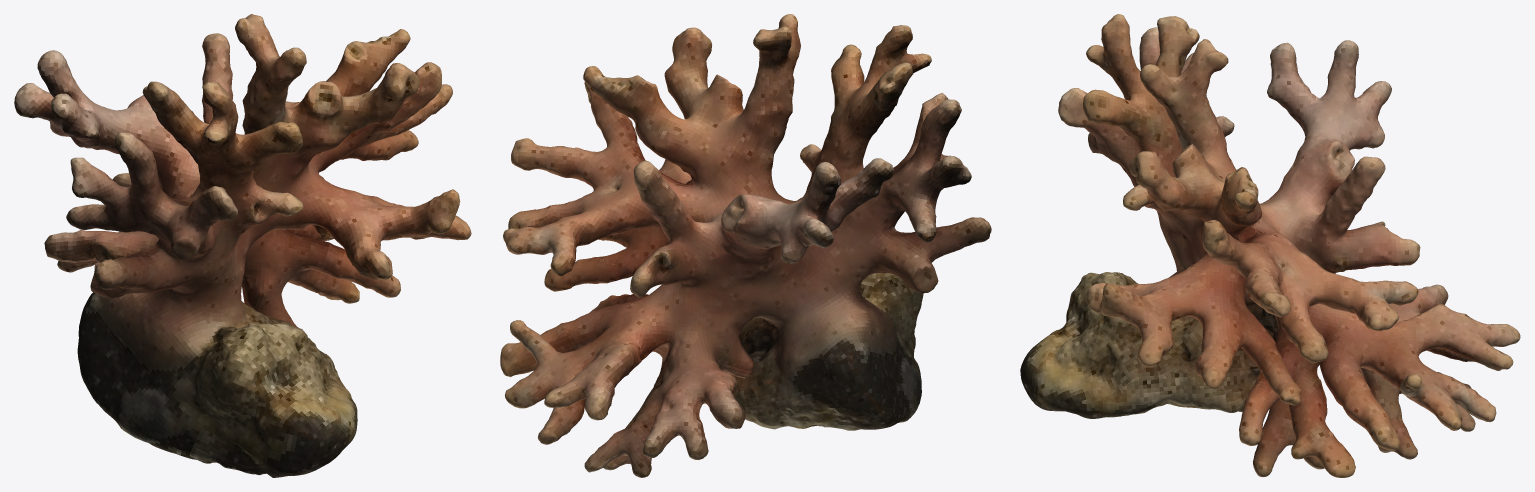
Rendered from Coral3.glb.
The picture shows the model from 3 angles, left to right: view 1: azimuth 30°, elevation 25°; view 2: azimuth 150°, elevation 25°; view 3: azimuth 270°, elevation 25°; orthographic projection. The views are drawn at different scales.
Visible parts, largest first — view 1: Mesh_0; view 2: Mesh_0; view 3: Mesh_0.
Part boxes in pixels (x1,y1,x2,y2): Mesh_0: [14, 14, 471, 477]; Mesh_0: [500, 14, 991, 477]; Mesh_0: [1020, 14, 1520, 477].
Size of the model in its own units: 3.1 by 2.82 by 3.28.
Materials: 1 (1 with a texture image).
